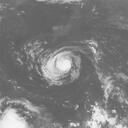cyclone: (42, 50, 80, 85)
